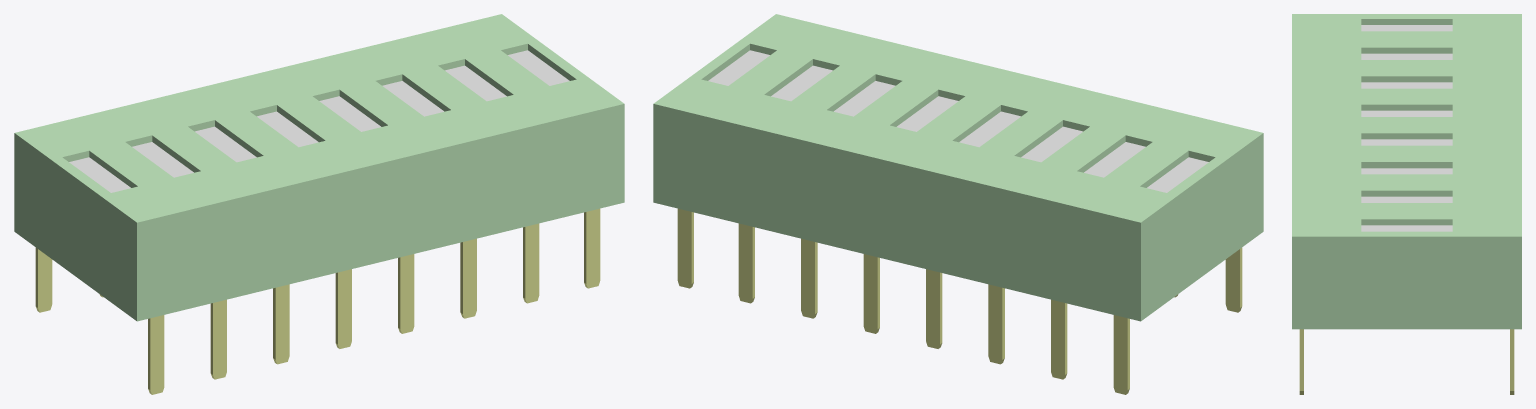
Rendered from dip8.fbx.
3 views of the same model, side by side, from view 1: azimuth 30°, elevation 25°; view 2: azimuth 150°, elevation 25°; view 3: azimuth 270°, elevation 25° (orthographic). The views are drawn at different scales.
Visible parts, largest first — view 1: Cube.003; view 2: Cube.003; view 3: Cube.003.
Boxes of the visible parts, x1,y1,x2,y2 form: Cube.003: (14,14,624,394); Cube.003: (653,14,1263,394); Cube.003: (1292,14,1521,394).
Bounding box in the file's own units: 780 × 275 × 340.
